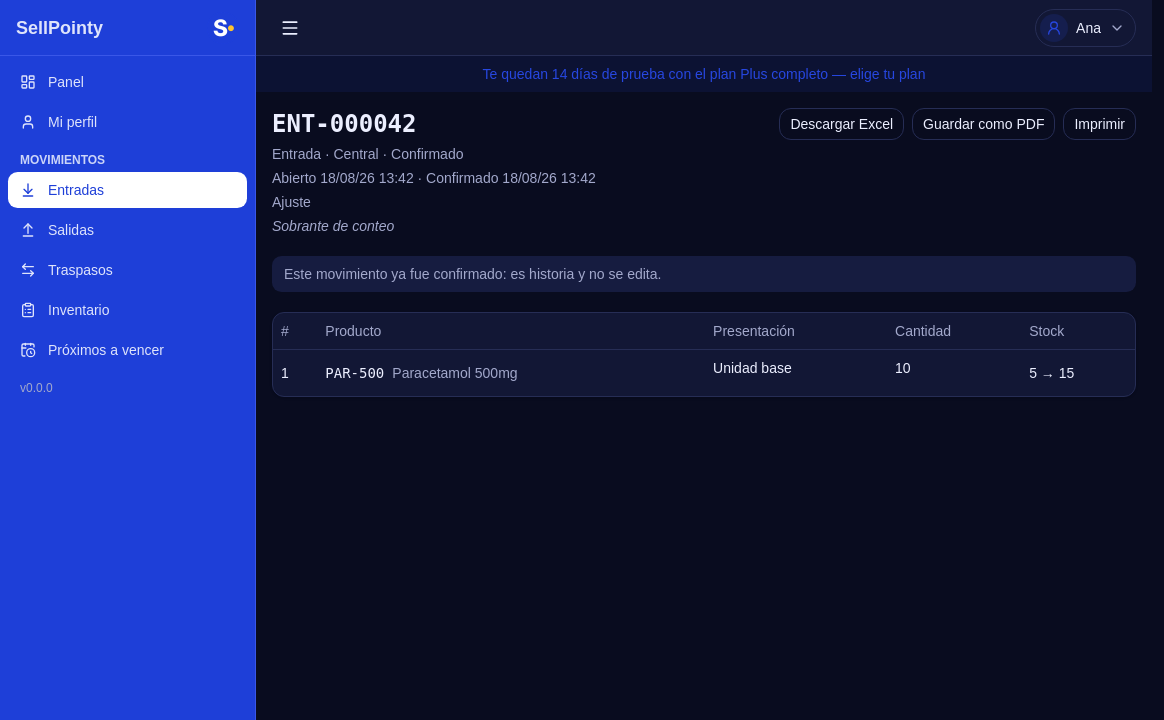
Test: Pantalla del documento (F3-DOC-09) › el papel › si el Excel falla, lo dice nombrando el Excel y no el PDF
This screenshot has width=1164, height=720.
Expected: the text "PAR-500" is shown, [325,363,384,383]
Click the button "Descargar Excel": (842, 124) [779,108,904,140]
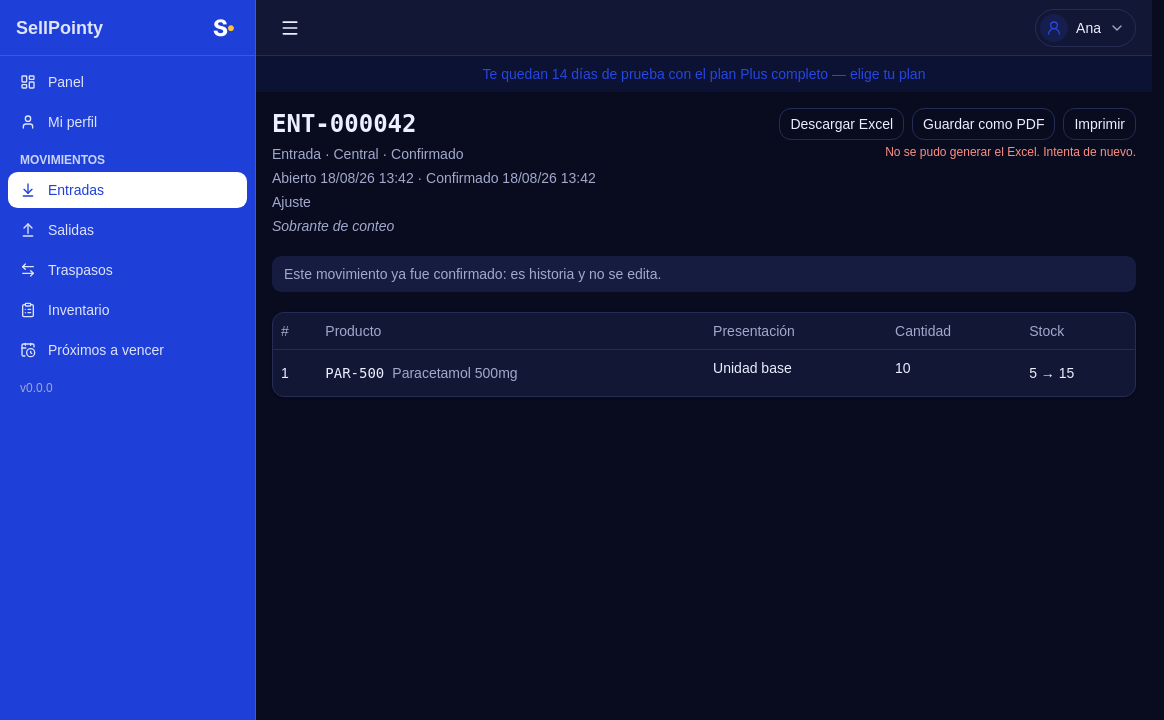
Result: the text "No se pudo generar el Excel. Intenta de nuevo." is shown at [885,144,1136,160]
